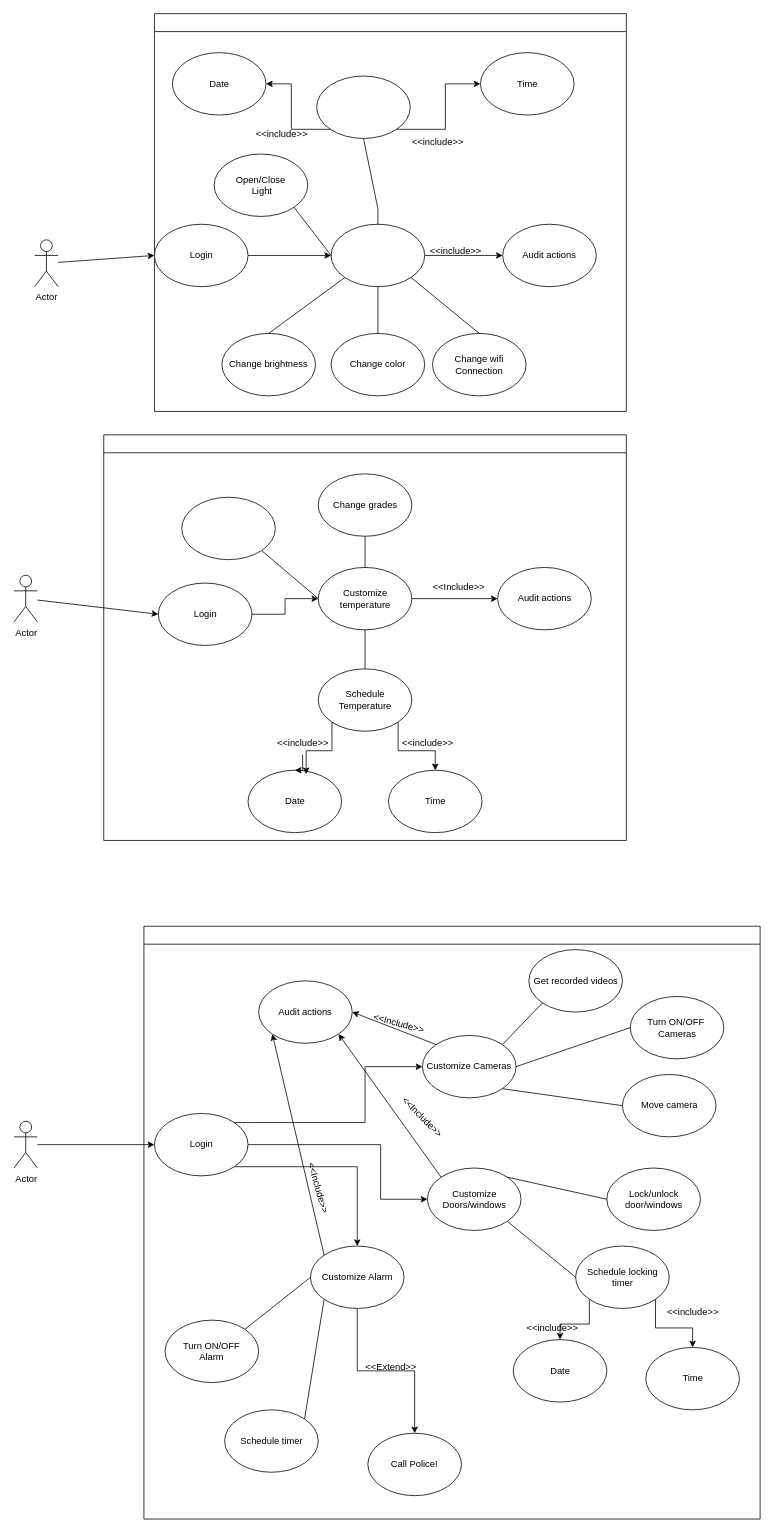
The diagram is 774 pixels wide and 1533 high, and some of its shapes have lost their labels. Here are the shapes that lost their labels. From the top down, the box of each, then its label:
(316, 75, 410, 138): Schedule Time
(154, 13, 626, 411): Lighter System
(330, 223, 425, 287): Customize Light
(181, 496, 275, 560): Turn on/Of Temperature
(103, 434, 626, 840): Temperature System
(143, 925, 760, 1519): Security System
